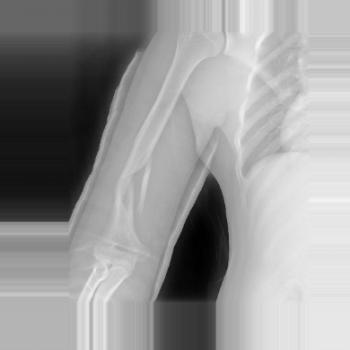Fracture: (106, 157, 157, 213)
